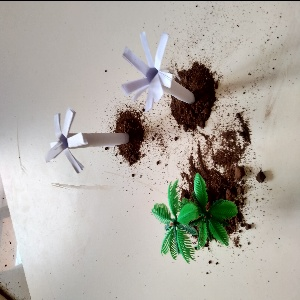plant: (142, 172, 244, 261)
weed: (111, 27, 207, 116), (37, 105, 140, 170)
